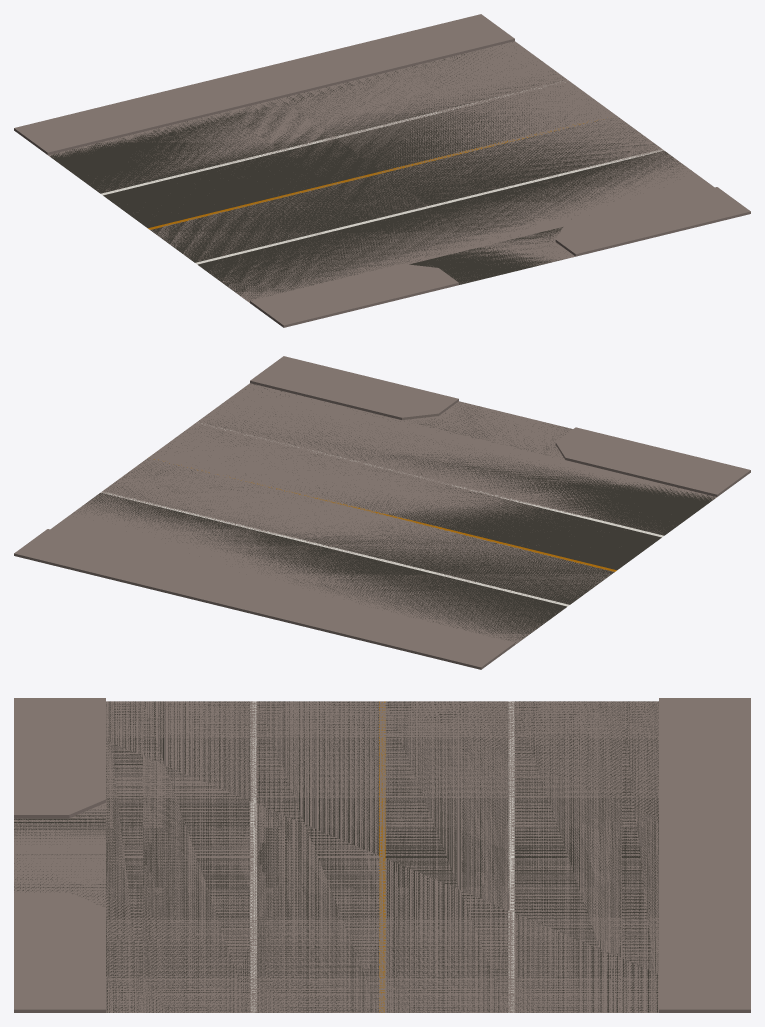
Rendered from Env_2lane_To_Street.fbx.
3 views of the same model, one above another, from view 1: azimuth 30°, elevation 25°; view 2: azimuth 150°, elevation 25°; view 3: azimuth 270°, elevation 25° (orthographic). The views are drawn at different scales.
Visible parts, largest first — view 1: Env_2lane_To_Street; view 2: Env_2lane_To_Street; view 3: Env_2lane_To_Street.
Part boxes in pixels (bbox=[...]): Env_2lane_To_Street: bbox=[14, 14, 750, 327]; Env_2lane_To_Street: bbox=[14, 356, 750, 669]; Env_2lane_To_Street: bbox=[14, 698, 750, 1012].
Bounding box in the file's own units: 2000 × 10 × 2000.
